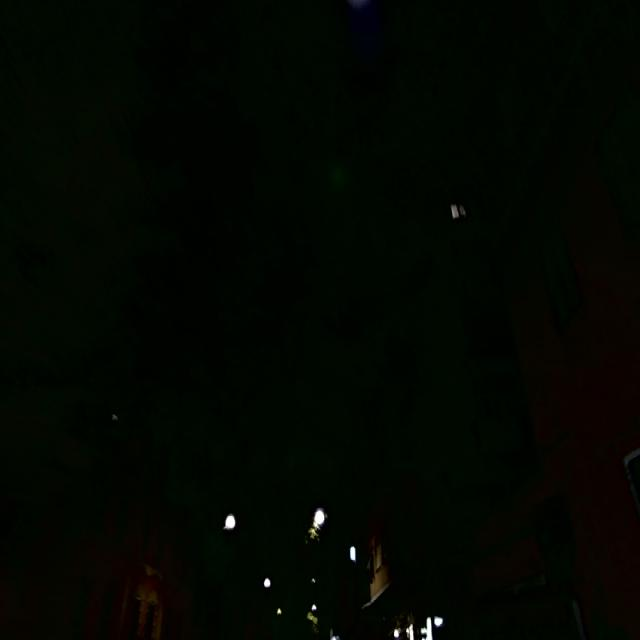lampione: (217, 495, 245, 548), (306, 495, 331, 538), (344, 534, 364, 574), (387, 615, 409, 640), (260, 568, 277, 599), (307, 594, 320, 620), (273, 602, 286, 622)
